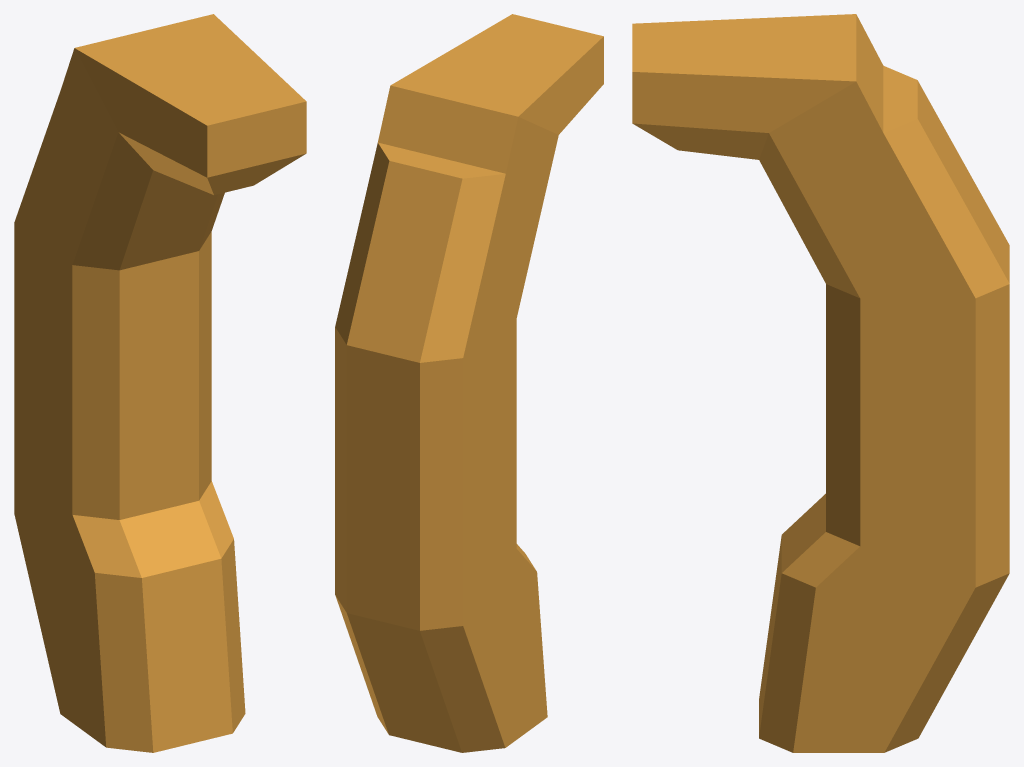
The model's file is scifi-scifi-pillar-corridor.glb.
3 renders of one model, left to right at view 1: azimuth 30°, elevation 25°; view 2: azimuth 150°, elevation 25°; view 3: azimuth 270°, elevation 25°, orthographic. The views are drawn at different scales.
Parts seen in each view (by area): view 1: scifi-pillar-corridor; view 2: scifi-pillar-corridor; view 3: scifi-pillar-corridor.
Part boxes in pixels (bbox=[...]): scifi-pillar-corridor: bbox=[14, 14, 306, 752]; scifi-pillar-corridor: bbox=[335, 14, 603, 752]; scifi-pillar-corridor: bbox=[632, 14, 1009, 752].
Bounding box in the file's own units: 0.7003 × 3.25 × 1.66.
